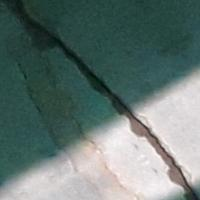crack: (6, 0, 192, 199)
